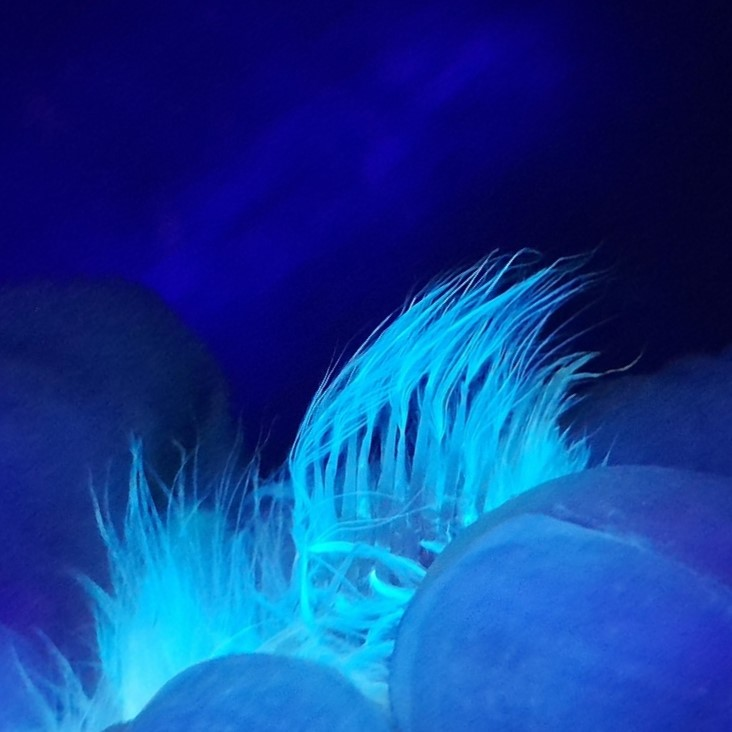male: (262, 361, 533, 629)
